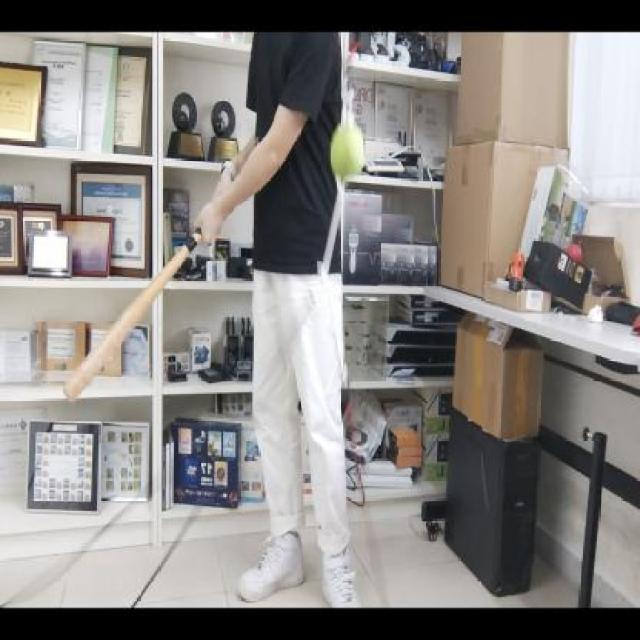baseball: (329, 114, 366, 186)
